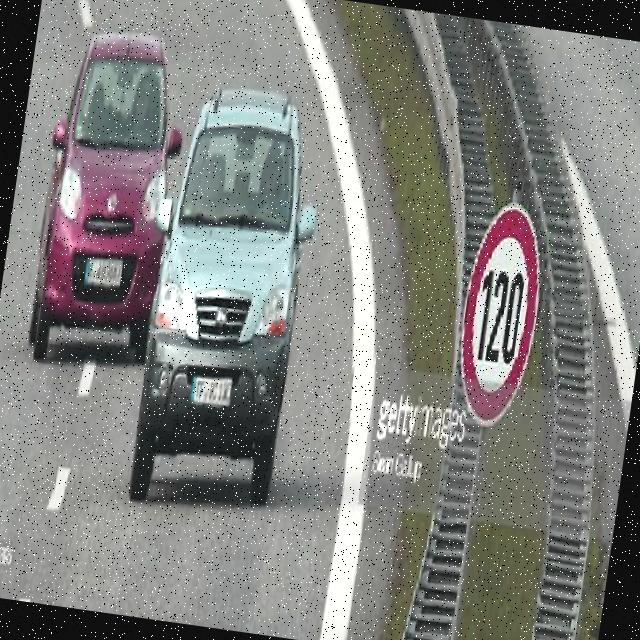Ograniczenie predkosci do 120: (450, 200, 552, 424)
